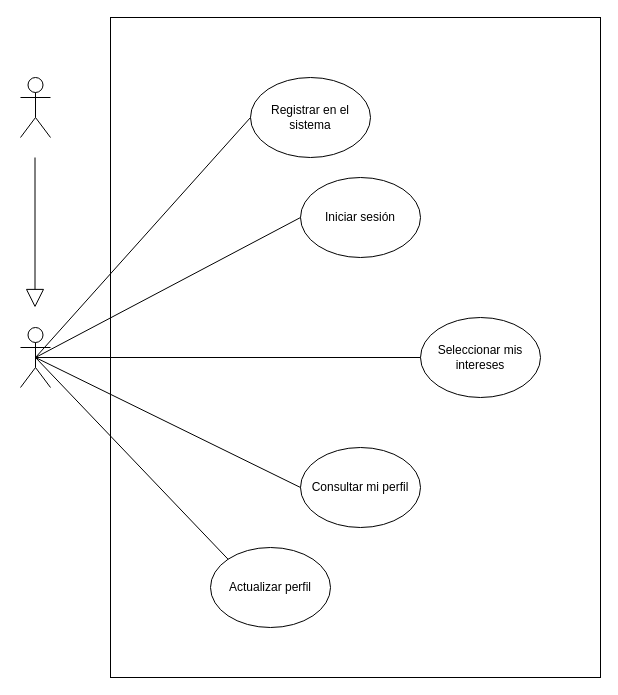
This 618x695 diagram has some shape labels left out. The shapes that lost their labels are listed below. From the top down, each one's box as (x1, y1, x2, y2) in pixels, then its label:
(20, 76, 50, 138): Editor
(20, 326, 50, 388): Autor
